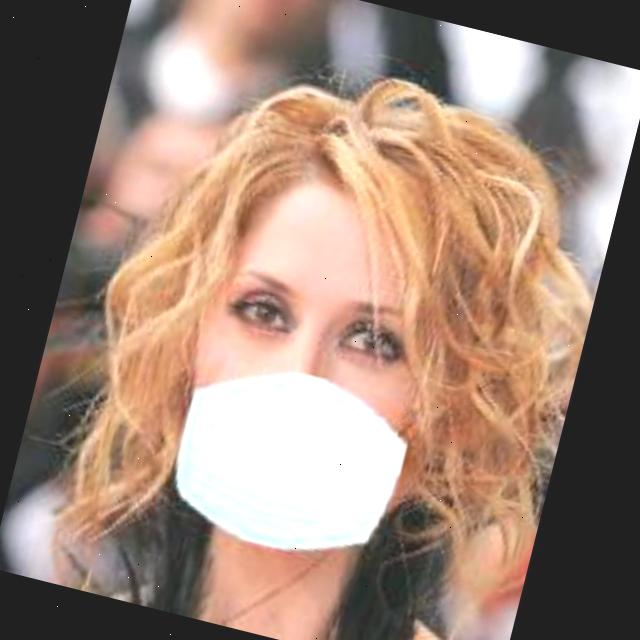suspicion: (130, 52, 582, 589)
